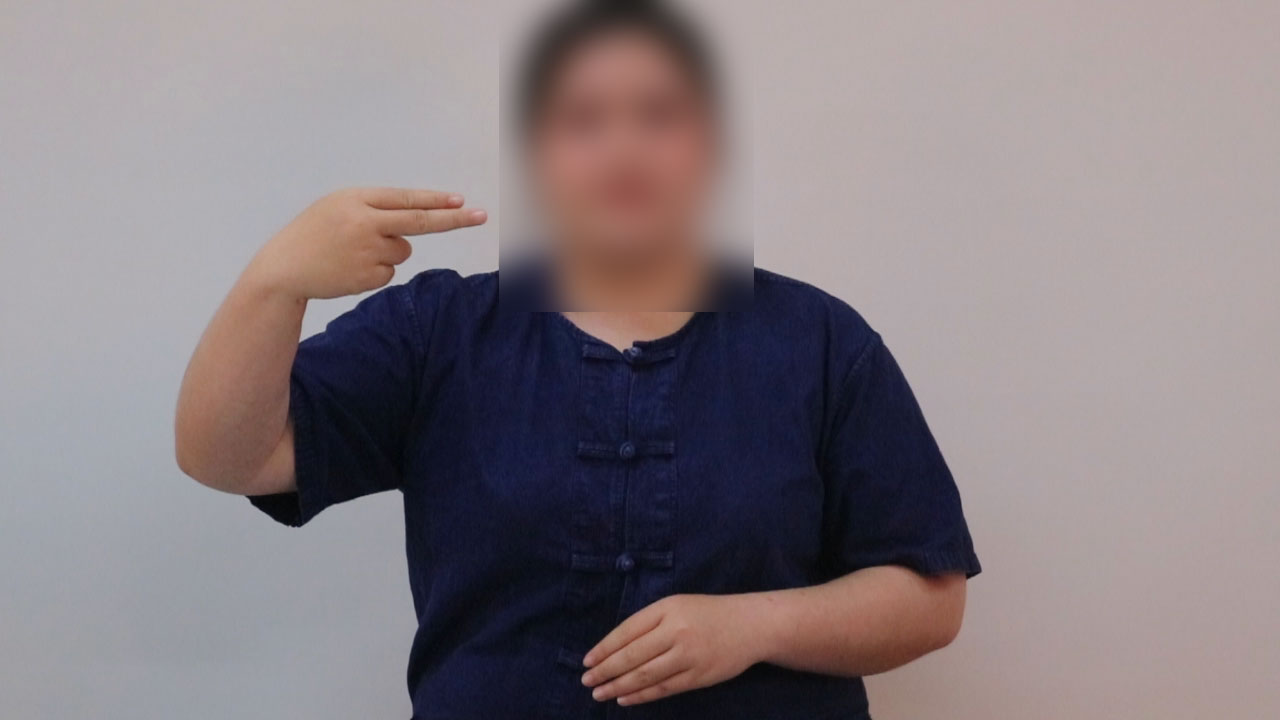hor: (242, 179, 498, 305)
